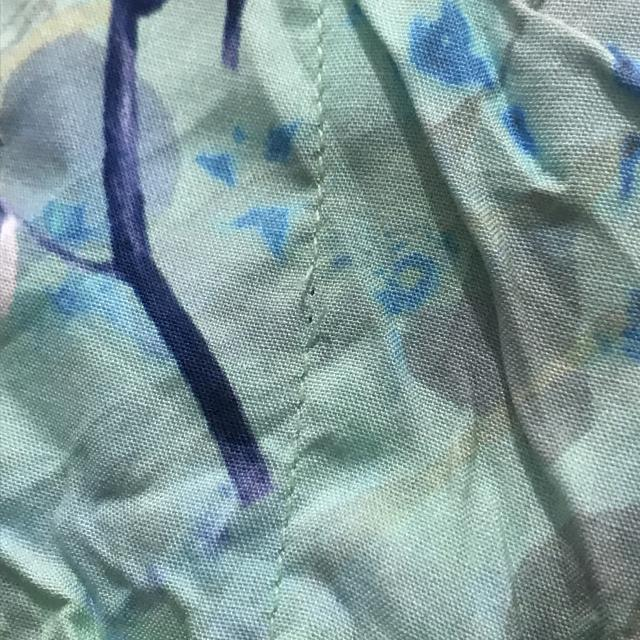broken: (272, 254, 340, 364)
